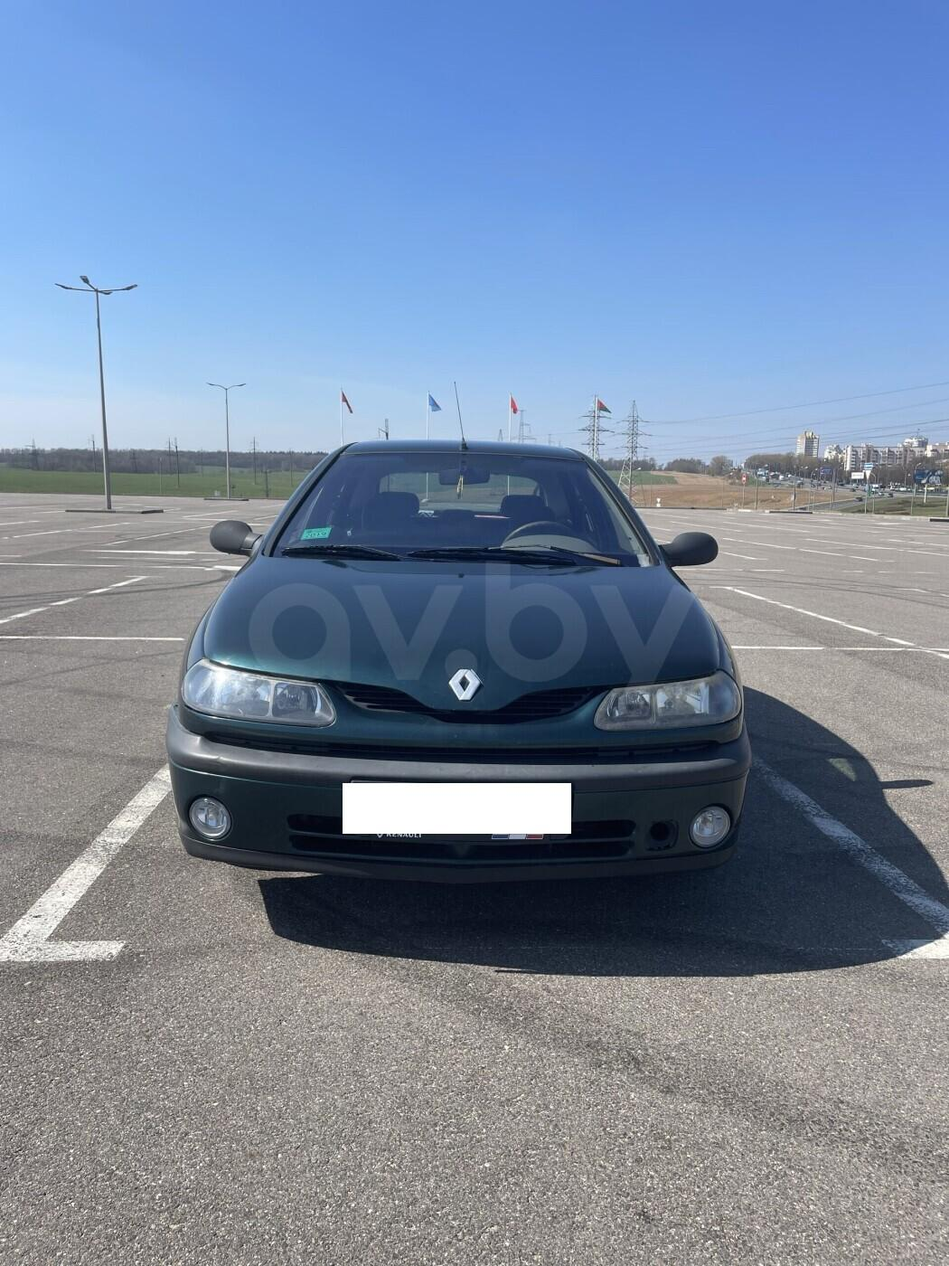Laguna_1998-2001: (164, 439, 757, 899)
